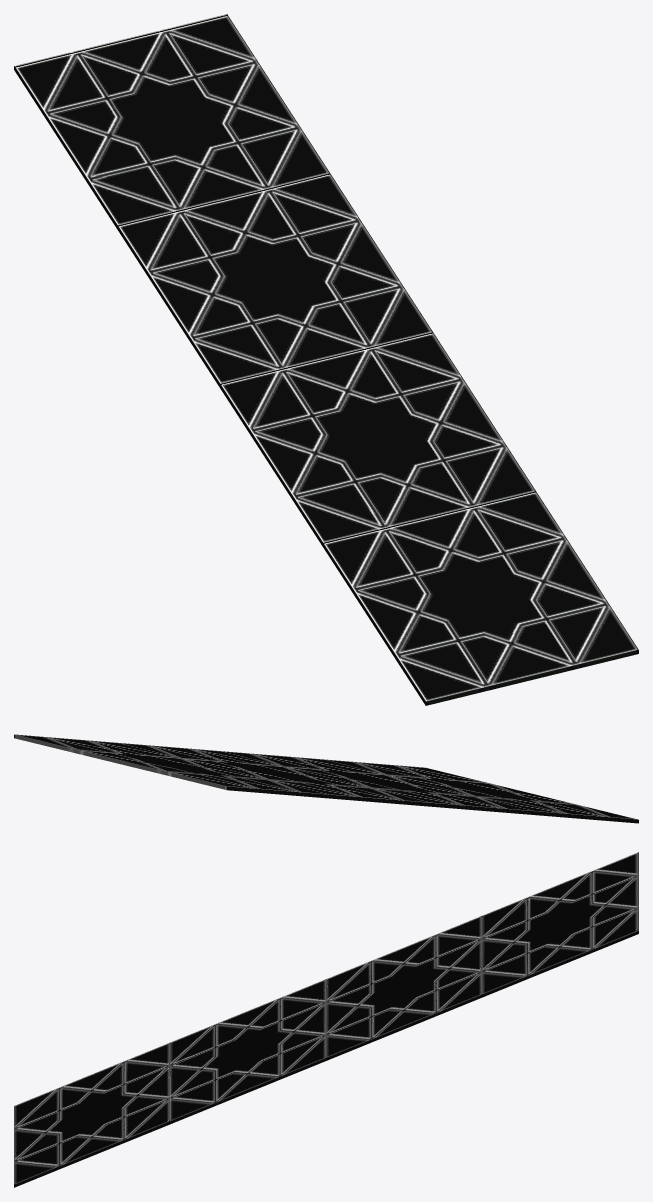
The model's file is NPStaircasePieces.gltf.
3 views of the same model, one above another, from view 1: azimuth 30°, elevation 25°; view 2: azimuth 150°, elevation 25°; view 3: azimuth 270°, elevation 25° (orthographic). The views are drawn at different scales.
Parts seen in each view (by area): view 1: StairPiece3, StairPiece8, StairPiece6, StairPiece9, StairPiece12, StairPiece17, StairPiece1, StairPiece5, StairPiece14, StairPiece2, StairPiece15, StairPiece4 (+6 smaller); view 2: StairPiece8, StairPiece3, StairPiece2, StairPiece6, StairPiece1, StairPiece5, StairPiece9, StairPiece12, StairPiece17, StairPiece14, StairPiece10, StairPiece11 (+6 smaller); view 3: StairPiece3, StairPiece8, StairPiece9, StairPiece6, StairPiece12, StairPiece1, StairPiece14, StairPiece17, StairPiece5, StairPiece2, StairPiece15, StairPiece7 (+6 smaller).
Part boxes in pixels (box(x1,y1,x2,y2)): StairPiece3: box(99, 92, 329, 194); StairPiece8: box(195, 287, 361, 442); StairPiece6: box(174, 153, 306, 348); StairPiece9: box(315, 295, 488, 425); StairPiece12: box(368, 417, 535, 520); StairPiece17: box(374, 623, 556, 705); StairPiece1: box(116, 14, 277, 96); StairPiece5: box(84, 174, 220, 317); StairPiece14: box(415, 491, 555, 602); StairPiece2: box(14, 38, 128, 177); StairPiece15: box(492, 521, 631, 639); StairPiece4: box(238, 152, 329, 294); StairPiece8: box(239, 761, 445, 806); StairPiece3: box(66, 738, 287, 789); StairPiece2: box(113, 758, 296, 795); StairPiece6: box(163, 757, 408, 804); StairPiece1: box(14, 734, 185, 771); StairPiece5: box(223, 769, 387, 803); StairPiece9: box(210, 750, 408, 791); StairPiece12: box(276, 755, 441, 788); StairPiece17: box(496, 788, 638, 823); StairPiece14: box(323, 759, 488, 792); StairPiece10: box(427, 795, 512, 813); StairPiece11: box(482, 798, 587, 819); StairPiece3: box(482, 897, 591, 996); StairPiece8: box(261, 964, 386, 1036); StairPiece9: box(242, 1019, 374, 1094); StairPiece6: box(364, 951, 518, 1001); StairPiece12: box(170, 1044, 261, 1124); StairPiece1: box(561, 894, 638, 964); StairPiece14: box(85, 1077, 170, 1135); StairPiece17: box(14, 1075, 90, 1153); StairPiece5: box(396, 895, 532, 953); StairPiece2: box(528, 852, 638, 901); StairPiece15: box(24, 1119, 140, 1183); StairPiece7: box(343, 994, 482, 1053).
Size of the model in its own units: 4 by 6.07 by 13.38.
Materials: 1 (1 with a texture image).
